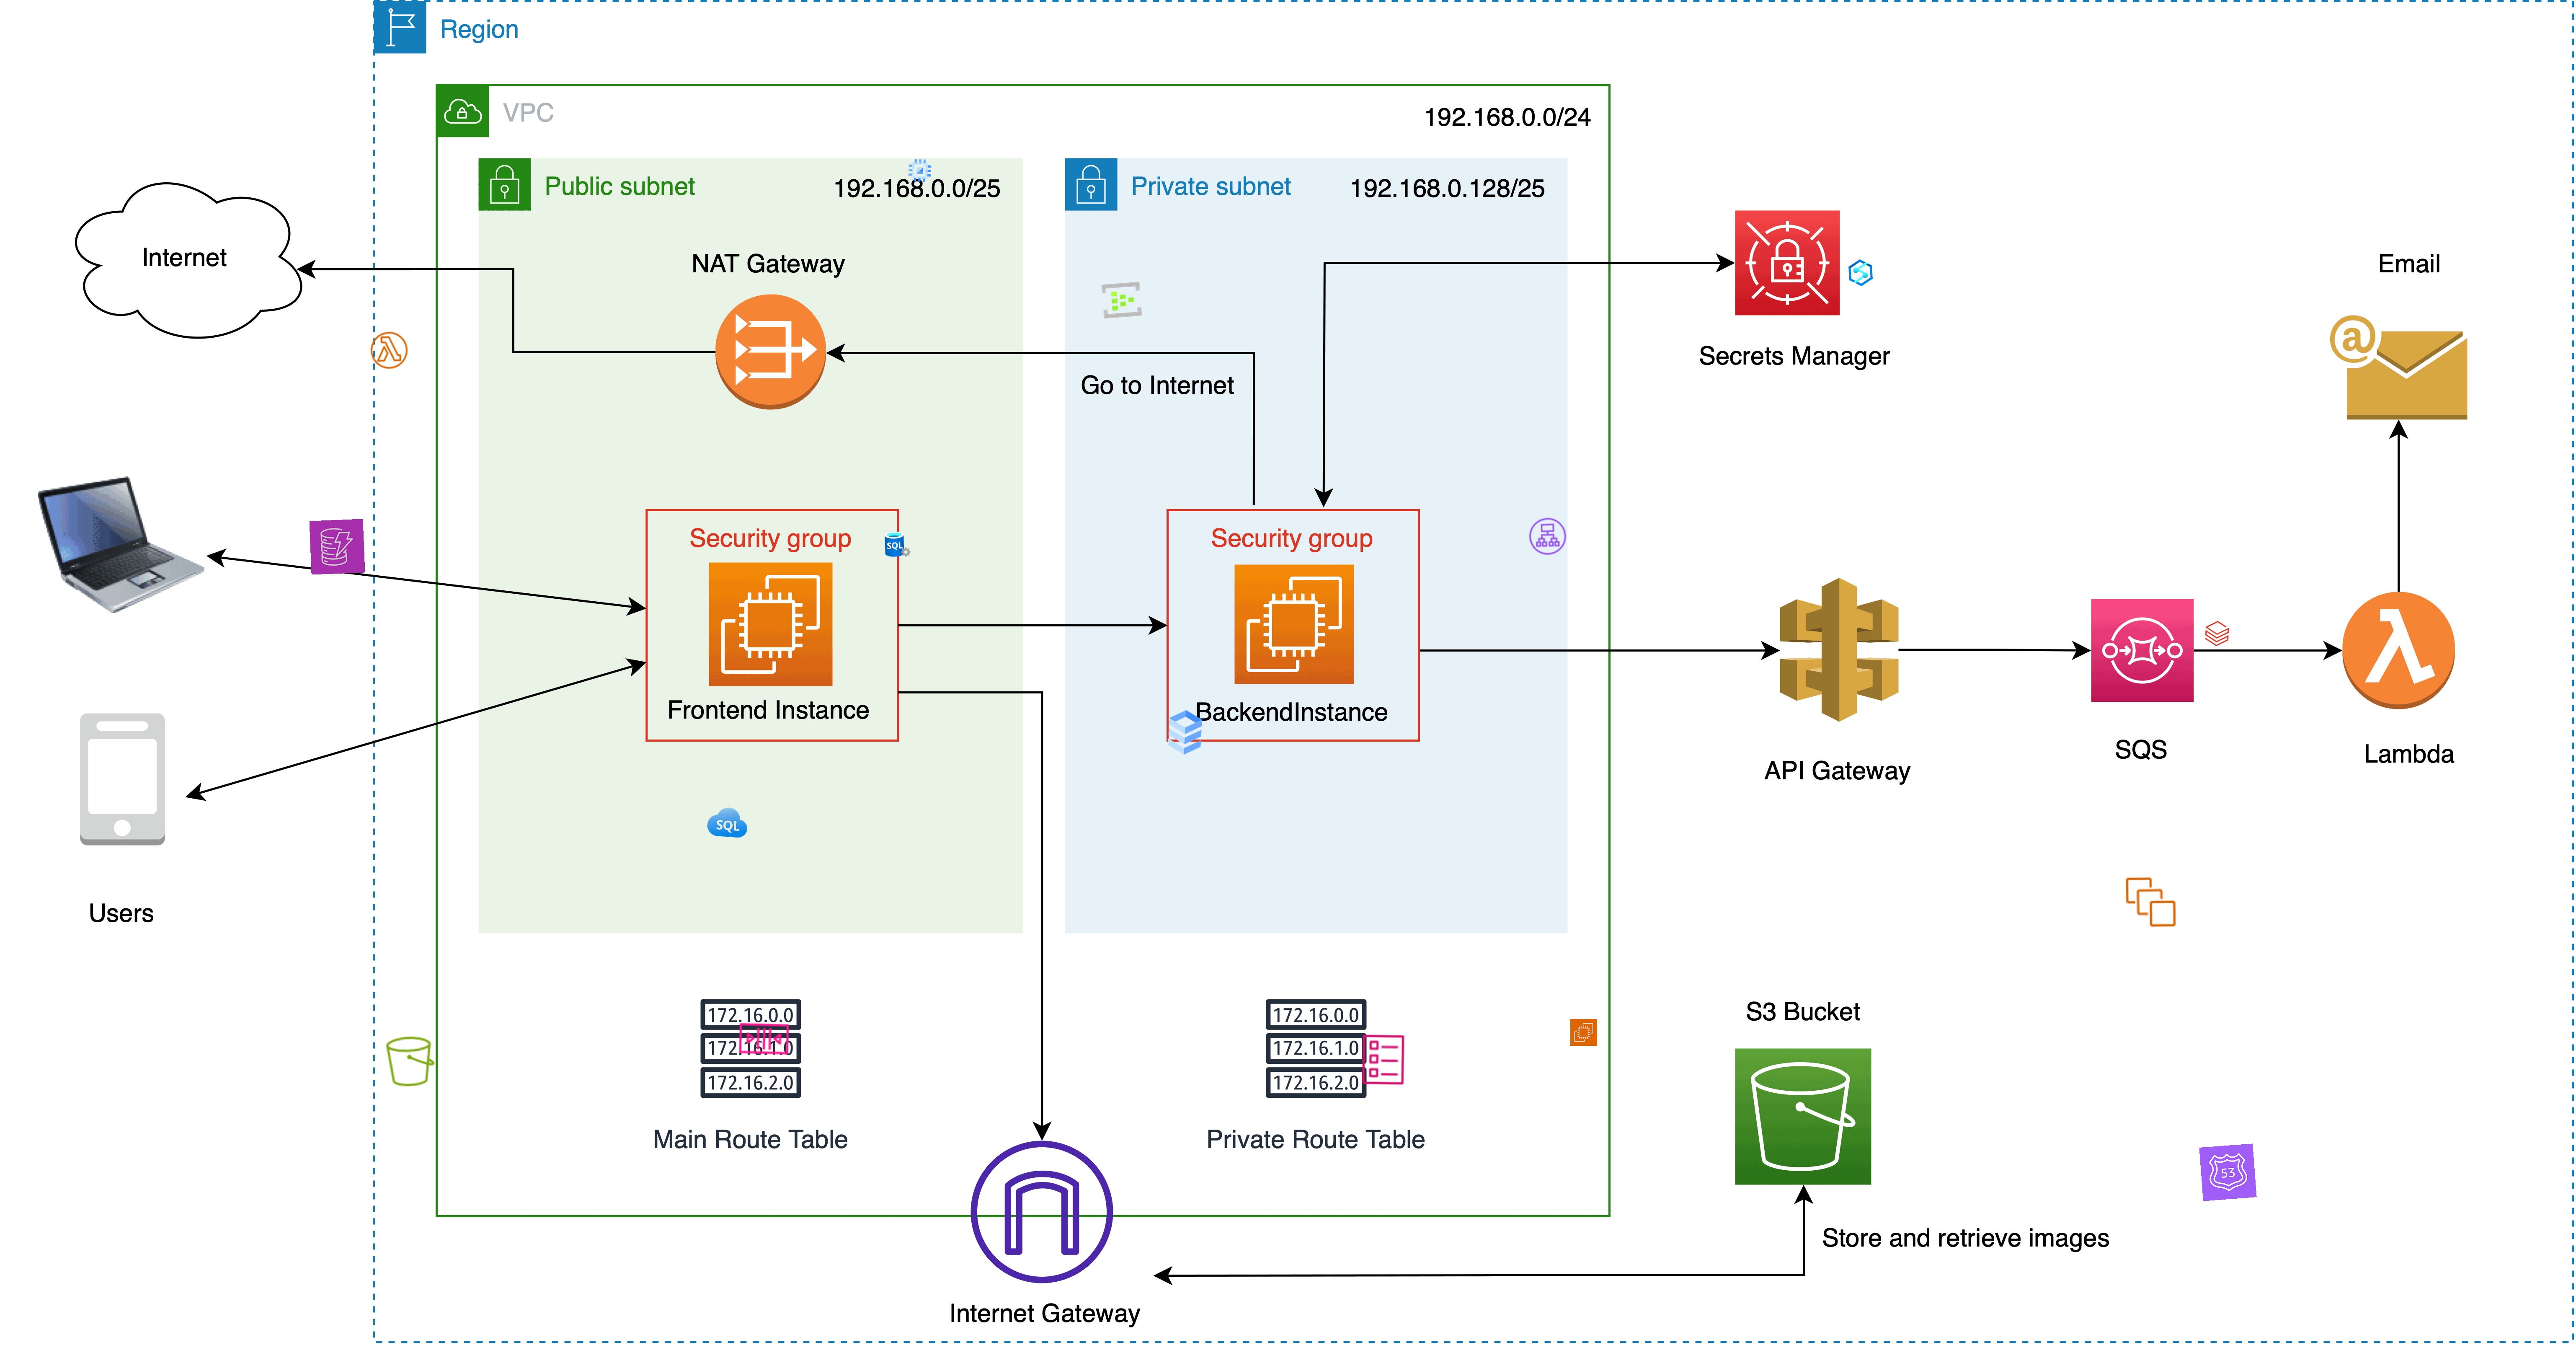aws_amazon_dynamodb: (308, 518, 365, 574)
aws_amazon_ec2: (1569, 1019, 1598, 1047)
aws_amazon_route_53: (2199, 1144, 2257, 1202)
aws_cloudformation_template: (1356, 1033, 1411, 1088)
aws_ec2_instances: (2123, 875, 2177, 929)
aws_elastic_load_balancing_application_load_balancer: (1527, 515, 1569, 557)
aws_lambda_lambda_function: (368, 329, 411, 372)
aws_simple_queue_service_queue: (736, 1011, 792, 1065)
aws_simple_storage_service_s3_standard: (382, 1033, 438, 1089)
azure_databricks: (2203, 619, 2232, 648)
azure_event_hubs: (1101, 278, 1143, 322)
azure_sql: (705, 801, 750, 846)
azure_sql_server: (884, 530, 911, 559)
azure_synapse_analytics: (1845, 257, 1876, 288)
gcp_cloud_sql: (1157, 704, 1213, 760)
gcp_compute_engine: (906, 157, 934, 184)
